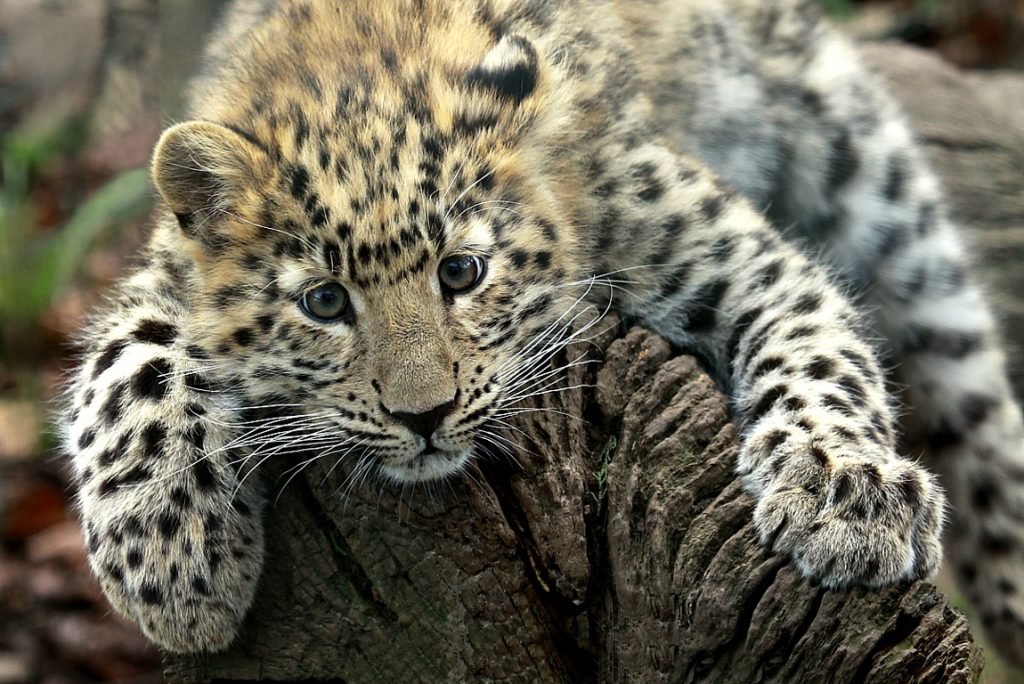amur_leopard: (144, 28, 632, 505)
